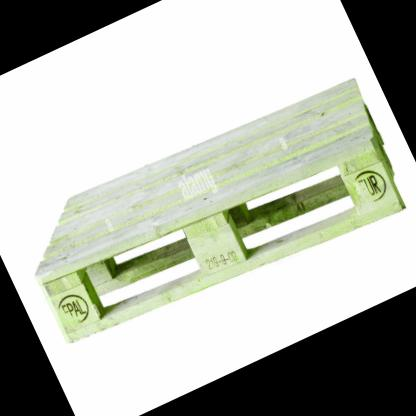BoxFace: (35, 74, 409, 348)
